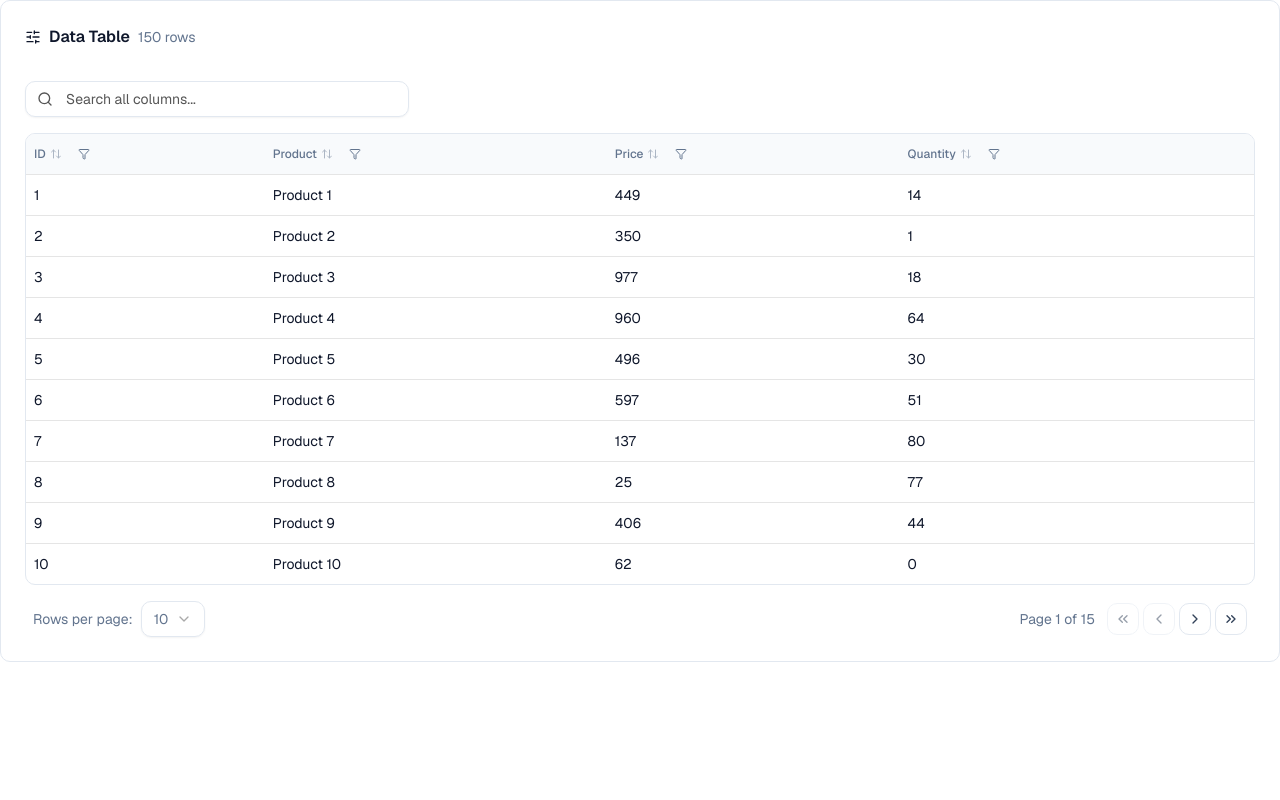
Test: ReportDataTable Component › pagination (AC-23.6.4) › previous button navigates to previous page
The image size is (1280, 800).
Note: Go to page 2 first
Click the button with test id "next-page-button". click: [1195, 618]
box: [1179,602,1211,634]
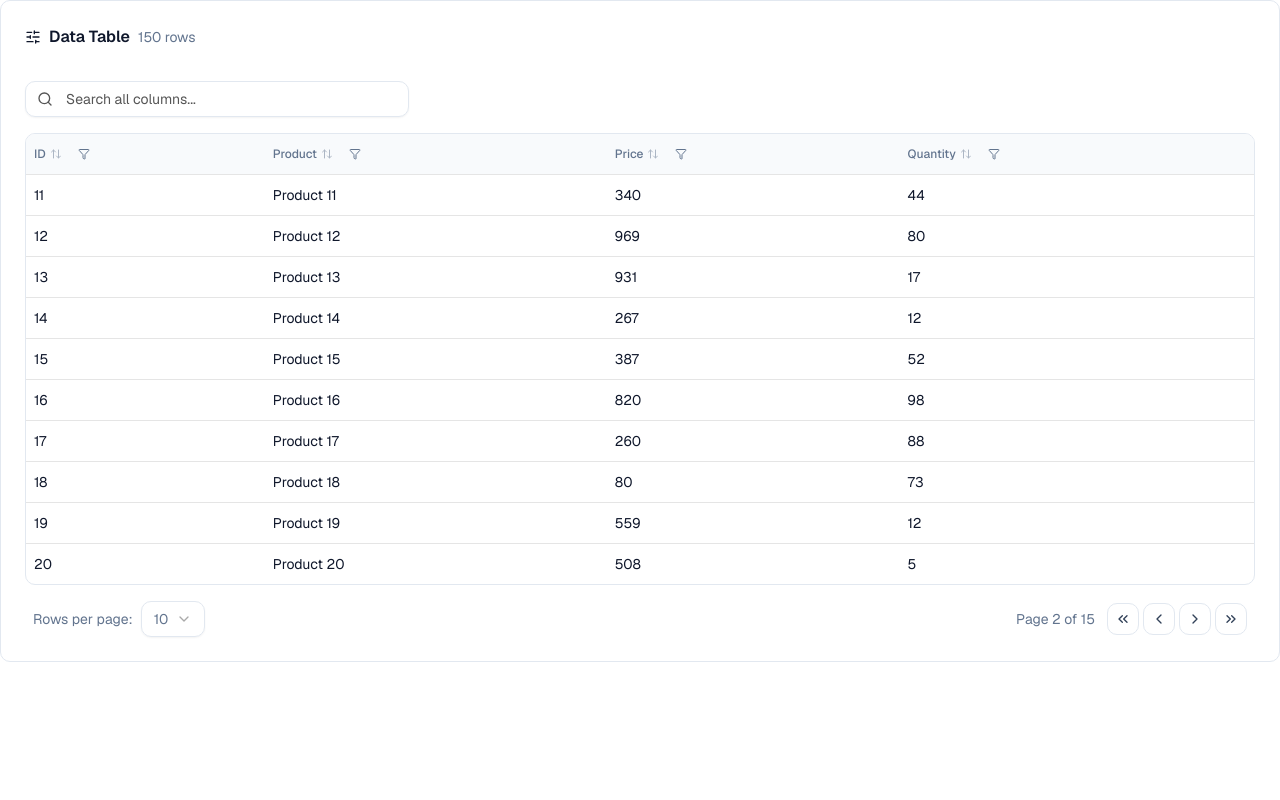
Expected: the text "Page 2 of 15" is shown, [1016,608,1095,628]
Note:  Go back
Click the button with test id "previous-page-button". click: [1159, 618]
box: [1143,602,1175,634]
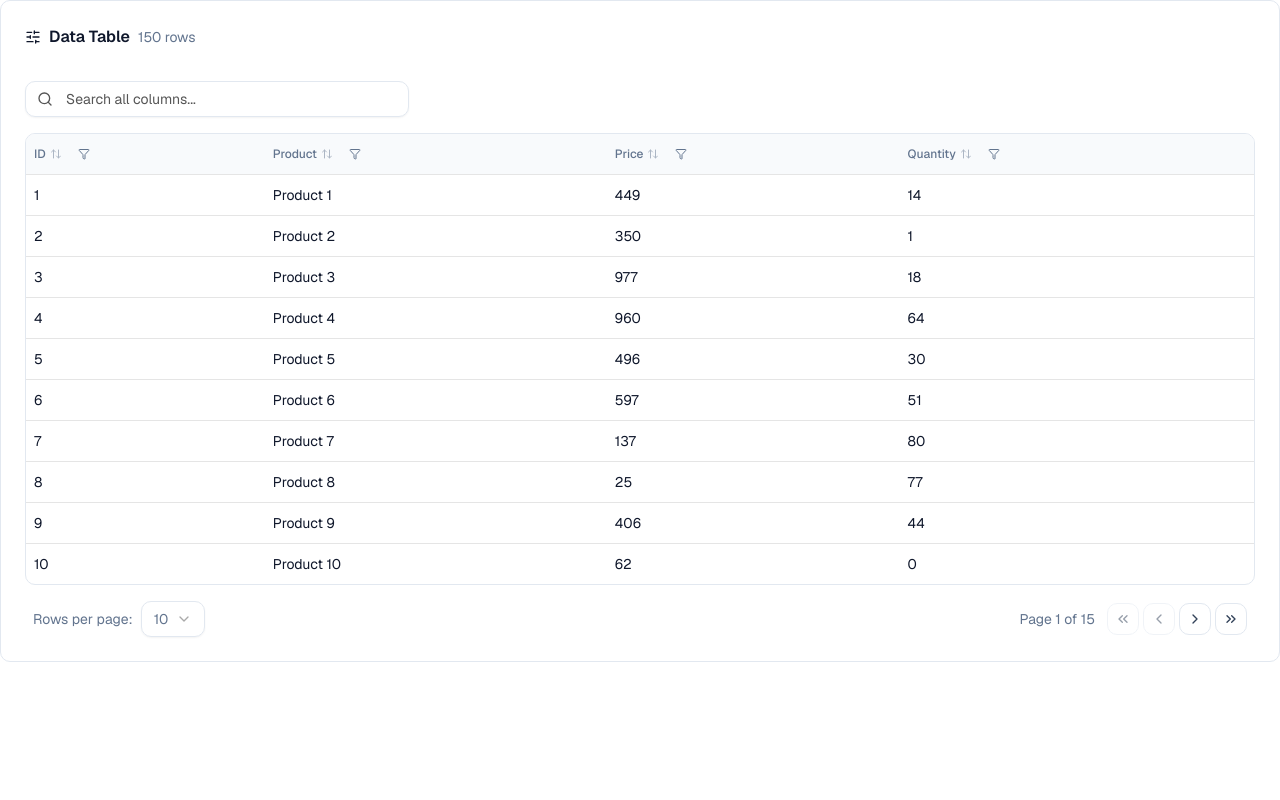
Expected: the text "Page 1 of 15" is shown, [1019,608,1095,628]
